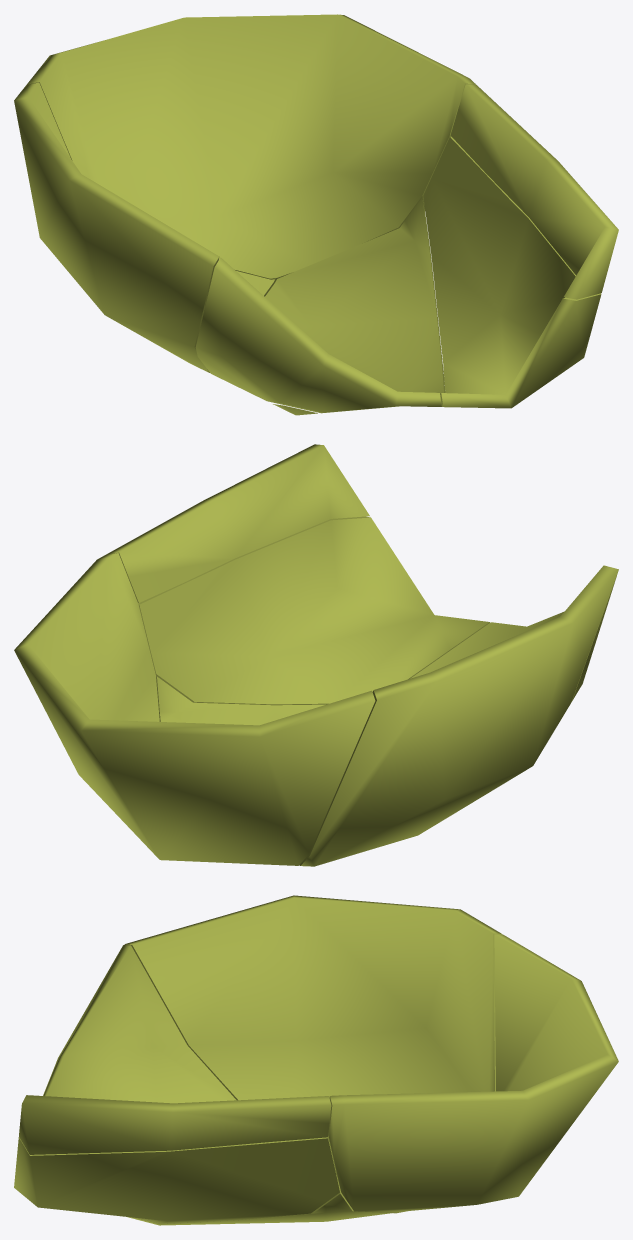
Rendered from Plaque_12.fbx.
3 renders of one model, top to bottom at view 1: azimuth 30°, elevation 25°; view 2: azimuth 150°, elevation 25°; view 3: azimuth 270°, elevation 25°, orthographic. The views are drawn at different scales.
Visible parts, largest first — view 1: tooth_u.036_cell.001, tooth_u.036_cell, tooth_u.036_cell.004, tooth_u.036_cell.003, tooth_u.036_cell.005; view 2: tooth_u.036_cell.001, tooth_u.036_cell.004, tooth_u.036_cell.003, tooth_u.036_cell.005, tooth_u.036_cell; view 3: tooth_u.036_cell.003, tooth_u.036_cell.001, tooth_u.036_cell.004, tooth_u.036_cell, tooth_u.036_cell.005.
Boxes of the visible parts, x1,y1,x2,y2 form: tooth_u.036_cell.001: [26, 14, 475, 283]; tooth_u.036_cell: [195, 198, 445, 413]; tooth_u.036_cell.004: [423, 136, 601, 408]; tooth_u.036_cell.003: [14, 82, 275, 372]; tooth_u.036_cell.005: [450, 84, 618, 299]; tooth_u.036_cell.001: [14, 553, 375, 865]; tooth_u.036_cell.004: [138, 516, 489, 705]; tooth_u.036_cell.003: [299, 566, 618, 866]; tooth_u.036_cell.005: [105, 444, 369, 602]; tooth_u.036_cell: [156, 565, 618, 725]; tooth_u.036_cell.003: [124, 895, 501, 1173]; tooth_u.036_cell.001: [328, 934, 618, 1213]; tooth_u.036_cell.004: [14, 1137, 339, 1223]; tooth_u.036_cell: [43, 945, 392, 1225]; tooth_u.036_cell.005: [19, 1095, 331, 1154].
Bounding box in the file's own units: 67.16 × 36.22 × 91.19.
